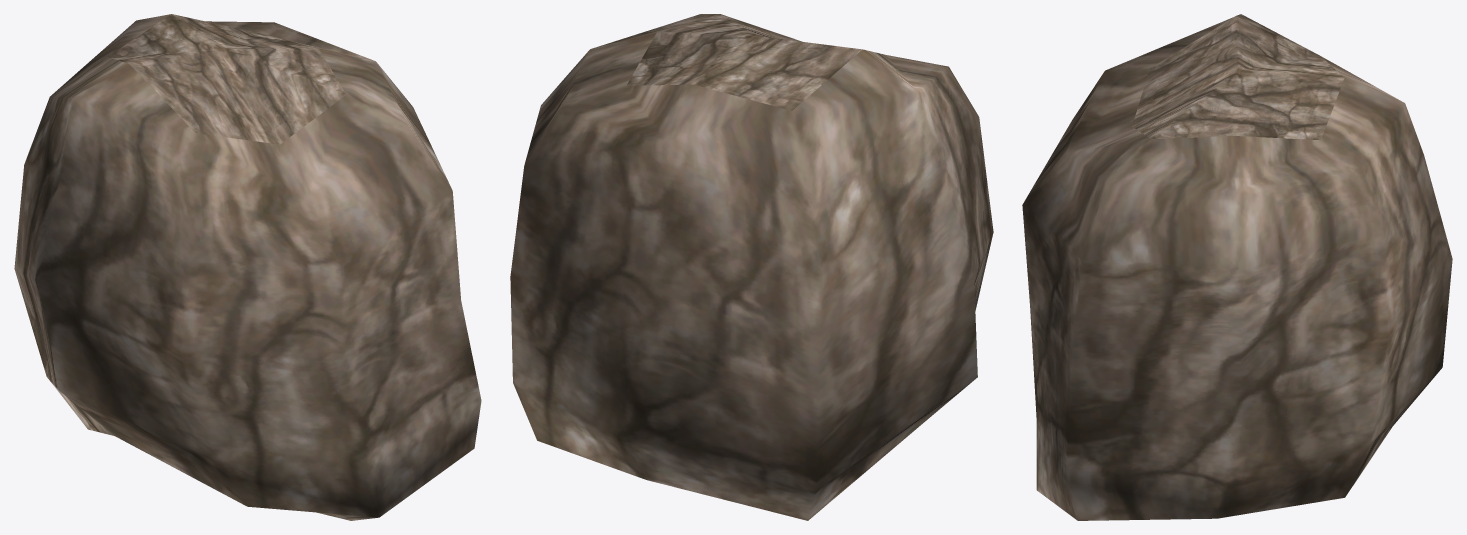
Rendered from INST_EKH_ROCKB.fbx.
The picture shows the model from 3 angles, left to right: view 1: azimuth 30°, elevation 25°; view 2: azimuth 150°, elevation 25°; view 3: azimuth 270°, elevation 25°; orthographic projection. The views are drawn at different scales.
Visible parts, largest first — view 1: INST_EKH_ROCKB; view 2: INST_EKH_ROCKB; view 3: INST_EKH_ROCKB.
Boxes of the visible parts, x1,y1,x2,y2 form: INST_EKH_ROCKB: (14,14,481,520); INST_EKH_ROCKB: (510,14,993,520); INST_EKH_ROCKB: (1022,14,1452,520).
Bounding box in the file's own units: 20540 × 22260 × 20364.
Materials: 1 (1 with a texture image).
